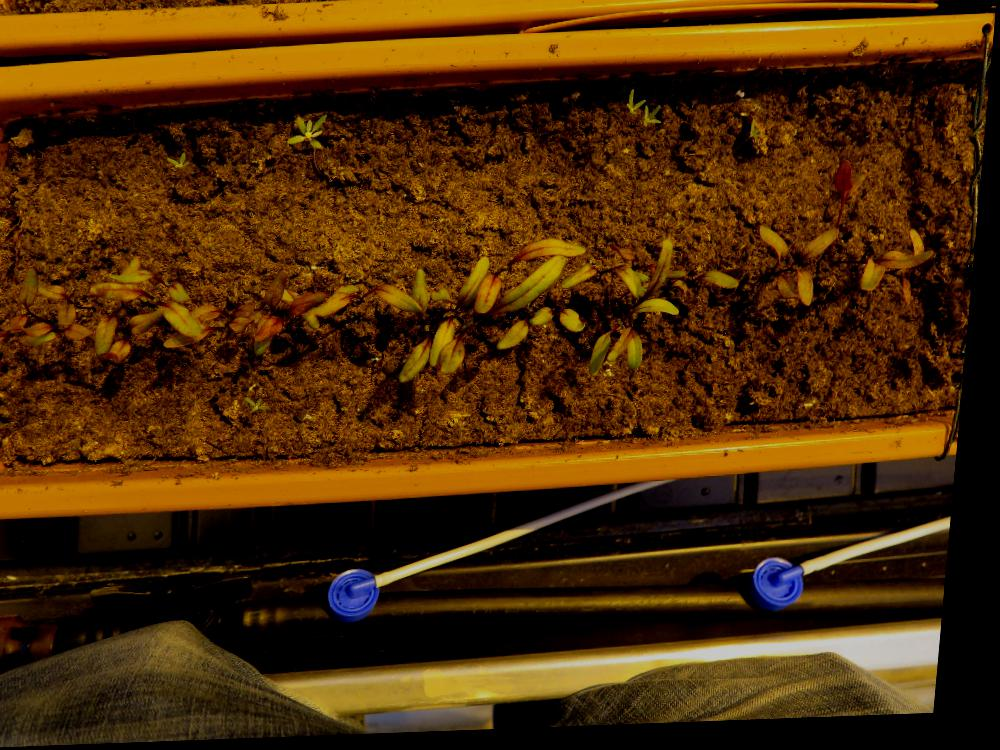weed: (286, 112, 329, 151), (166, 151, 193, 174), (644, 106, 665, 133), (249, 397, 278, 416), (749, 122, 767, 147)
